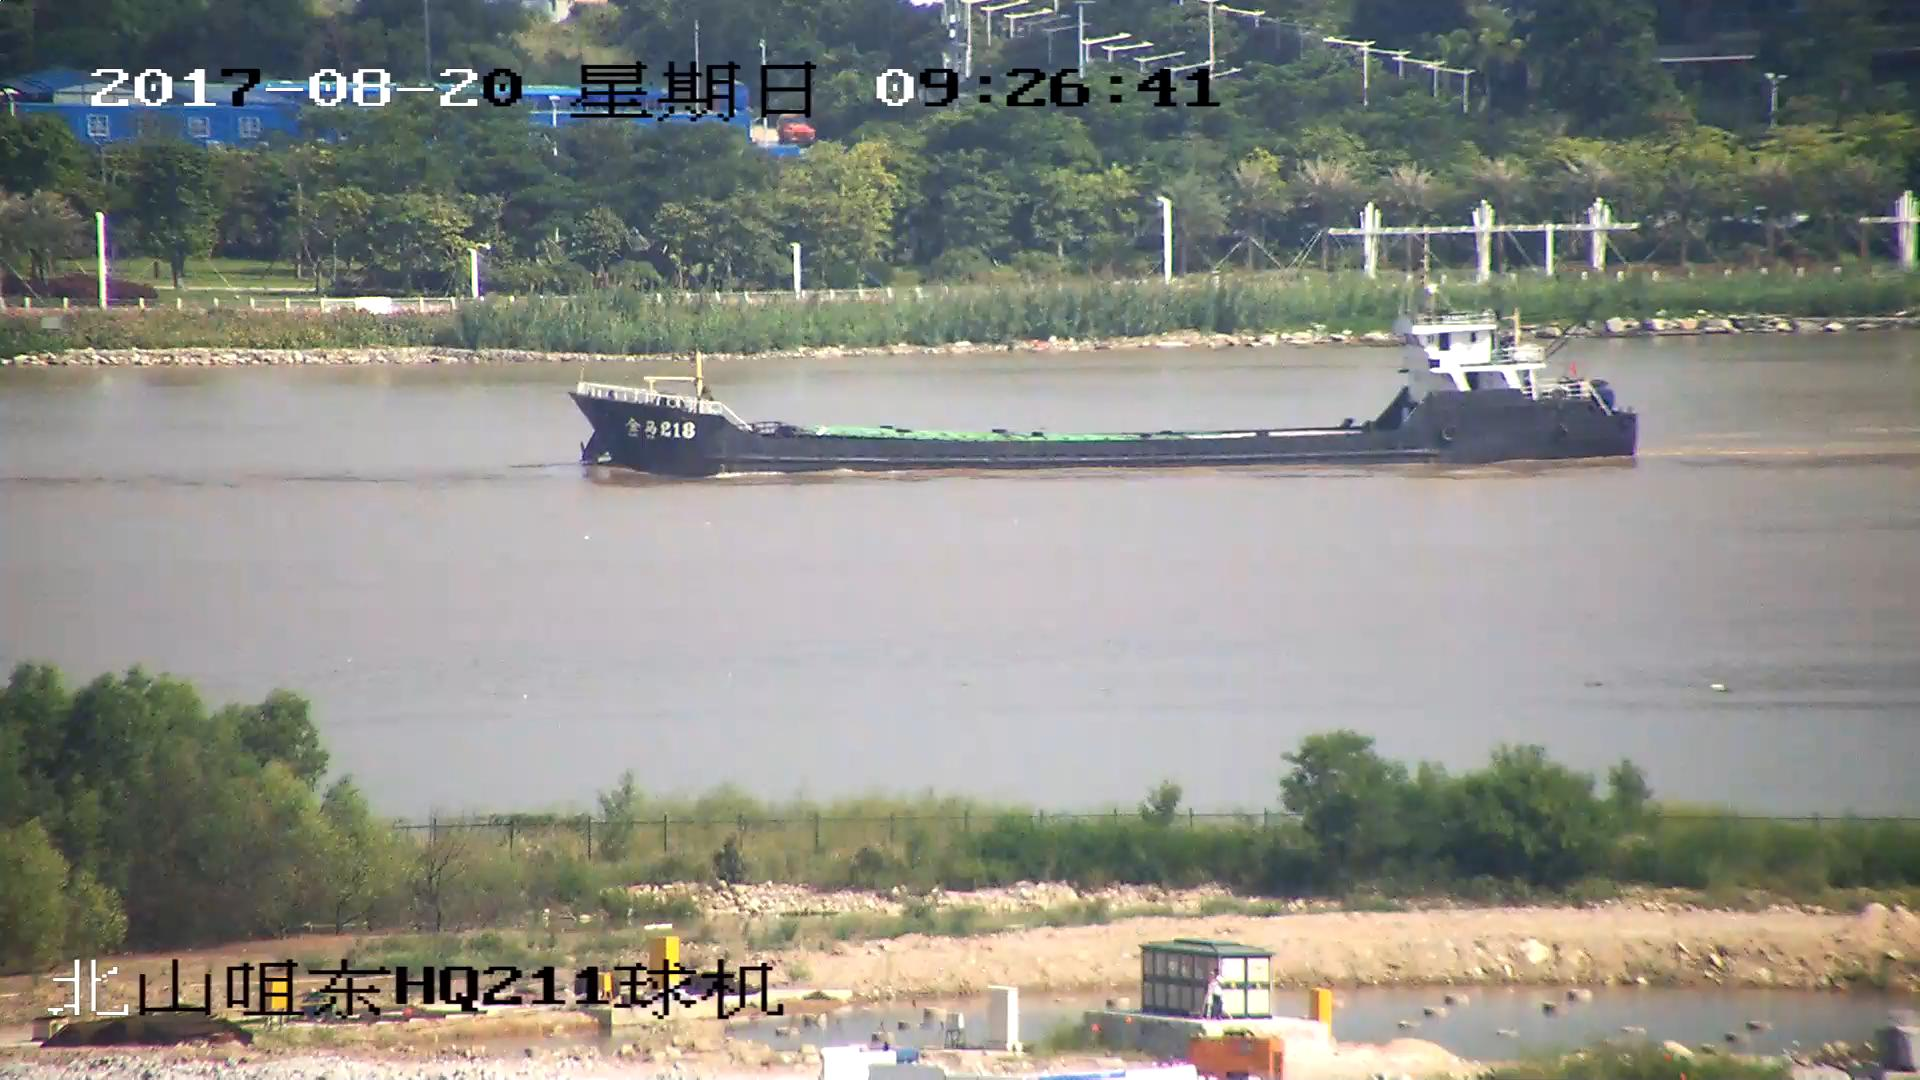general cargo ship: (569, 306, 1637, 472)
